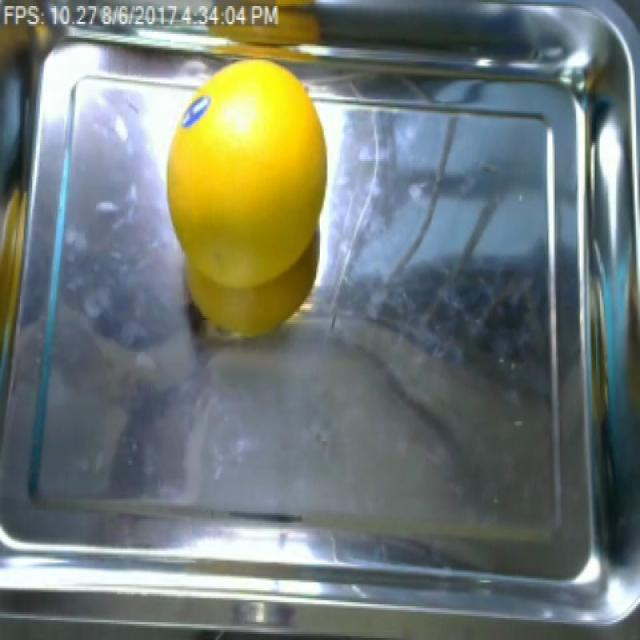Fruit: (154, 53, 334, 350)
